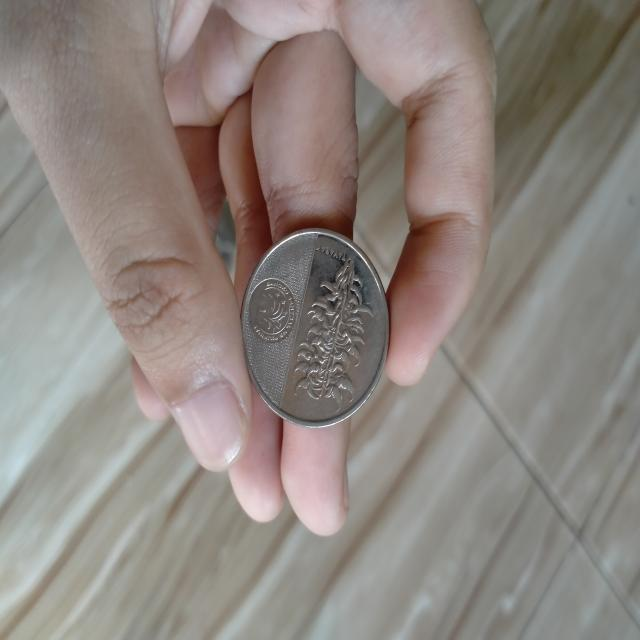5_New_Back: (287, 247, 374, 413)
